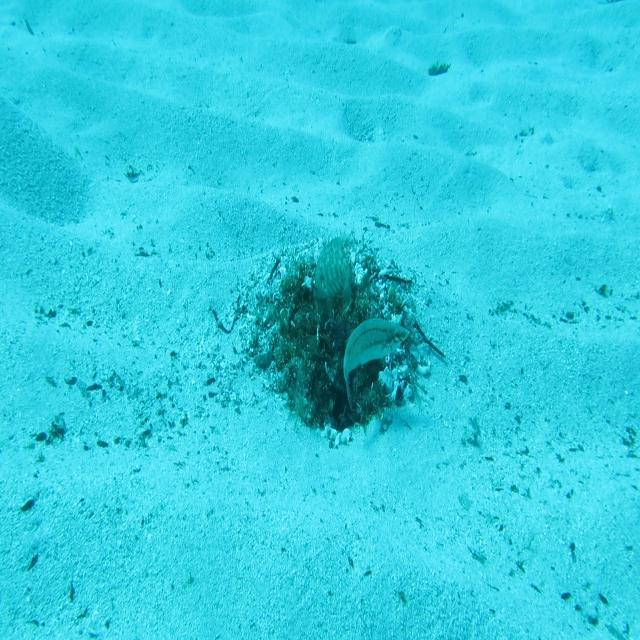NIP_CORE: (312, 234, 353, 308)
female: (341, 314, 412, 414)
nest: (230, 225, 436, 461)
vegetation: (428, 63, 454, 81)
